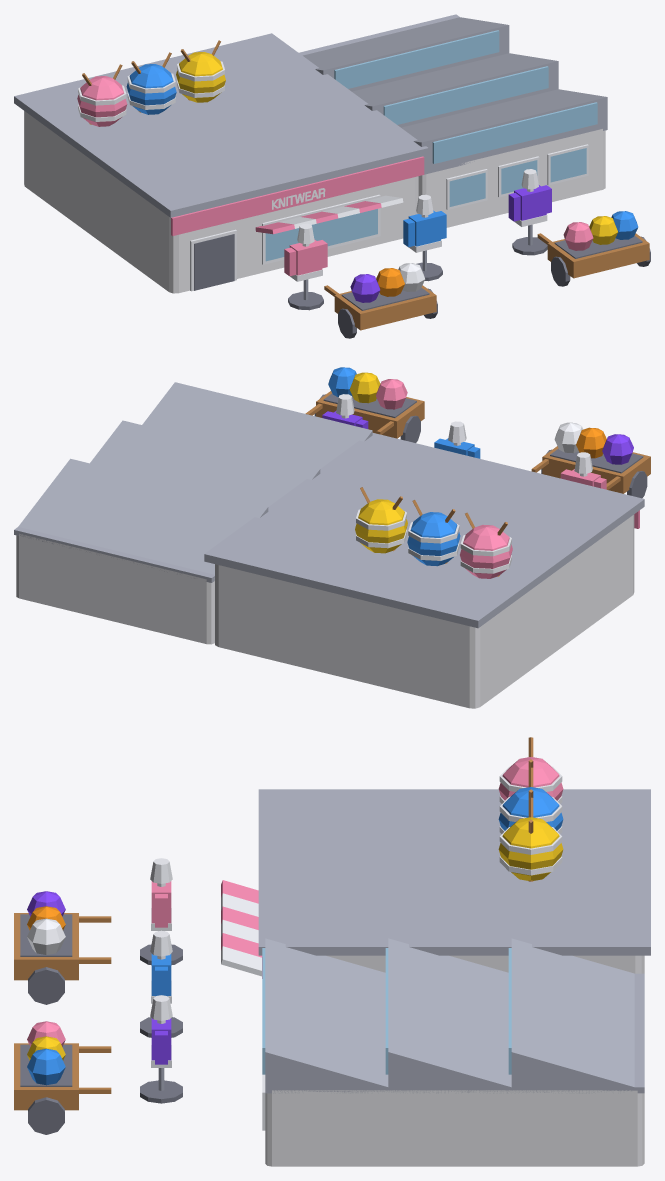
The model's file is knitwear-factory-2x2-t3-tone-a.glb.
3 views of the same model, one above another, from view 1: azimuth 30°, elevation 25°; view 2: azimuth 150°, elevation 25°; view 3: azimuth 270°, elevation 25° (orthographic). The views are drawn at different scales.
Visible parts, largest first — view 1: knitwear-factory-2x2-t3-tone-a; view 2: knitwear-factory-2x2-t3-tone-a; view 3: knitwear-factory-2x2-t3-tone-a.
Part boxes in pixels (bbox=[...]): knitwear-factory-2x2-t3-tone-a: bbox=[14, 14, 650, 338]; knitwear-factory-2x2-t3-tone-a: bbox=[14, 367, 650, 708]; knitwear-factory-2x2-t3-tone-a: bbox=[14, 737, 650, 1166].
Bounding box in the file's own units: 1.96 × 0.5944 × 1.97.
1 material, 1 textured.
